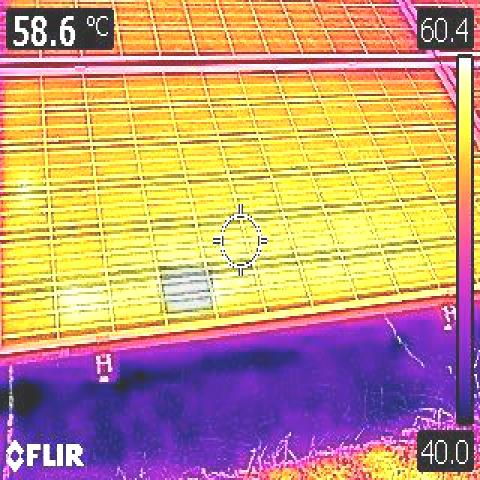fault: (160, 266, 213, 313)
